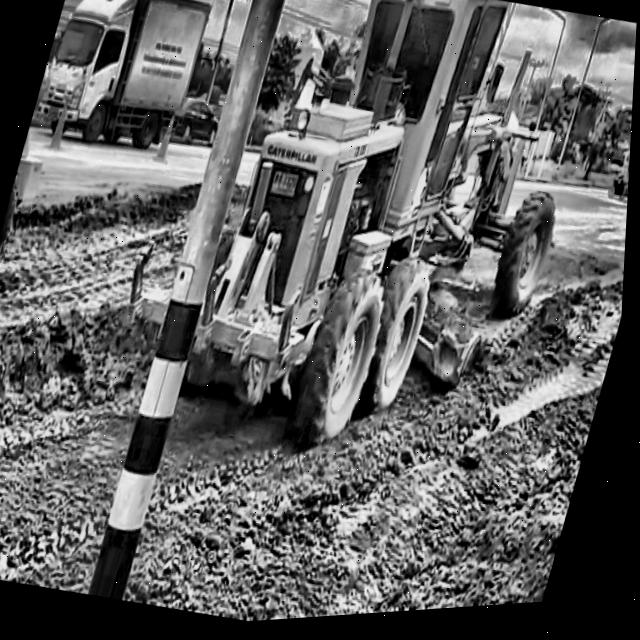buldozerpayloadergrader: (99, 0, 618, 500)
